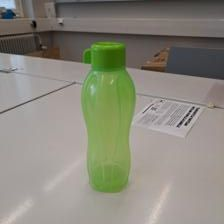bottle: (80, 40, 137, 194)
